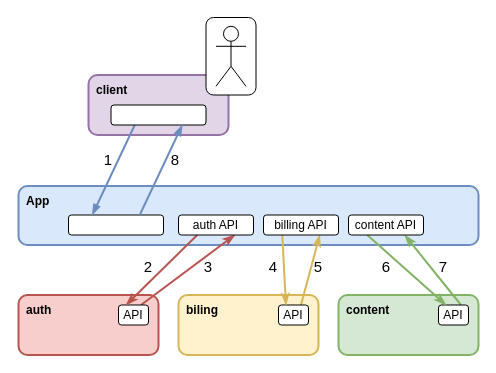
Some shapes in this 496 by 373 pixel diagram are drawn without their labels. The shapes that lost their labels are listed below. From the top down, each one's centre as x and y in pixels, then its label:
point 158,114: browser
point 116,224: webframework
